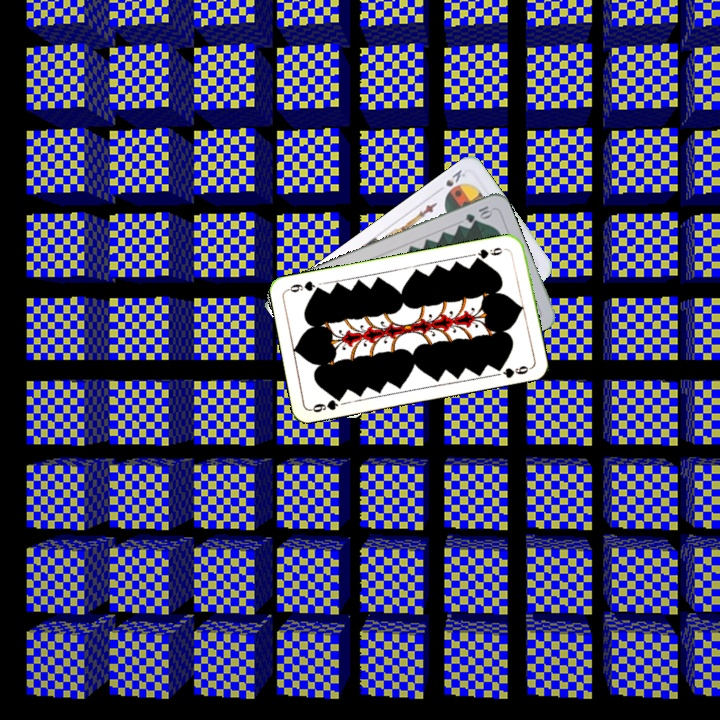G10: (461, 202, 495, 225)
G9: (307, 391, 346, 415), (471, 243, 505, 263)
SK: (442, 165, 468, 189)
